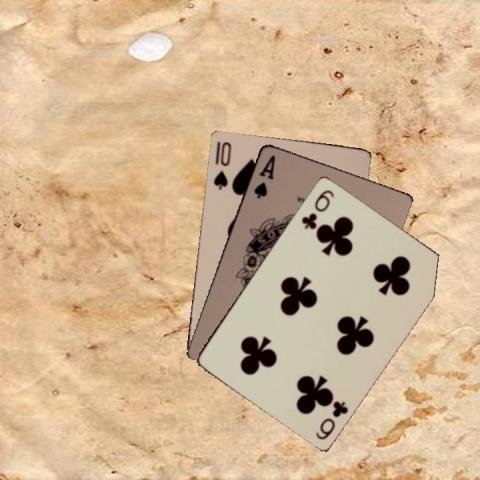10s: (210, 138, 233, 190)
6c: (298, 186, 336, 231), (313, 398, 350, 441)
As: (250, 151, 276, 200)
